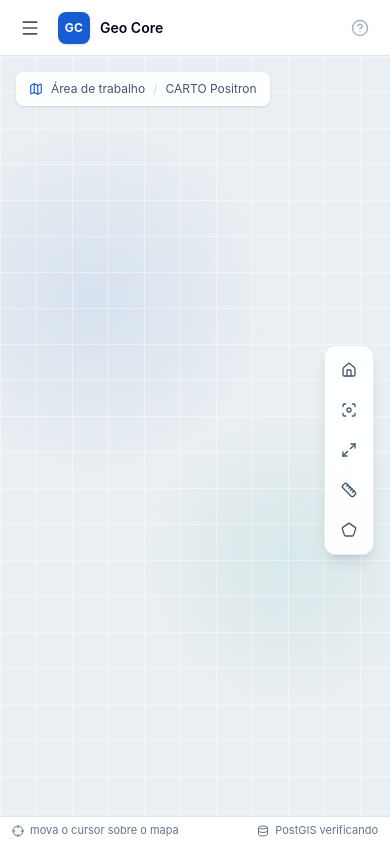
Scenario: App › abre e fecha a navegação móvel
Click the button named "Abrir navegação".
click(30, 28)  # box [12, 10, 48, 46]
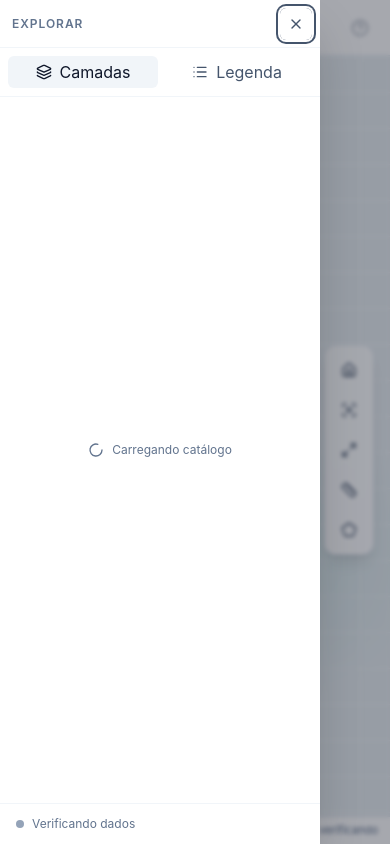
Check: the dialog named "Navegação geográfica" is shown
Click the button named "Fechar navegação".
click(296, 24)  # box [280, 8, 312, 40]
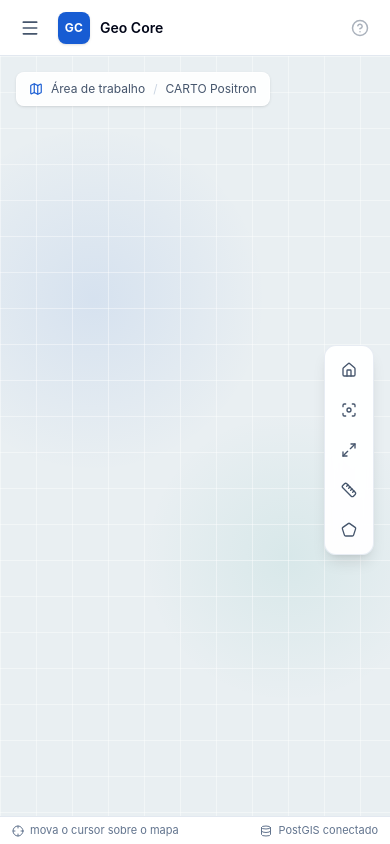
Check: the dialog is gone
